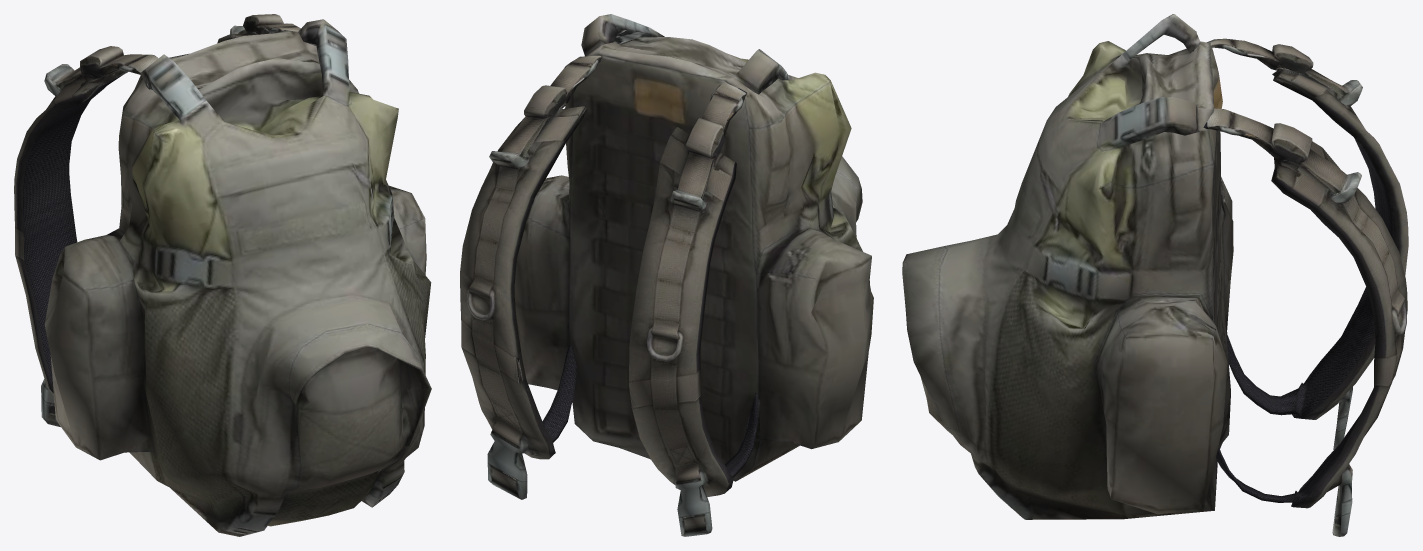
File: backpack_2.opt.glb
3 renders of one model, left to right at view 1: azimuth 30°, elevation 25°; view 2: azimuth 150°, elevation 25°; view 3: azimuth 270°, elevation 25°, orthographic. The views are drawn at different scales.
Visible parts, largest first — view 1: default645456_Material #10_0, default00112331_Material #12_0; view 2: default645456_Material #10_0, default00112331_Material #12_0; view 3: default645456_Material #10_0, default00112331_Material #12_0.
Part boxes in pixels (bbox=[...]): default645456_Material #10_0: bbox=[44, 19, 431, 536]; default00112331_Material #12_0: bbox=[14, 14, 300, 426]; default645456_Material #10_0: bbox=[514, 14, 873, 481]; default00112331_Material #12_0: bbox=[460, 55, 758, 536]; default645456_Material #10_0: bbox=[902, 14, 1233, 519]; default00112331_Material #12_0: bbox=[1192, 38, 1408, 536].
Bounding box in the file's own units: 0.5283 × 0.6061 × 0.6266.
2 materials, 2 textured.
